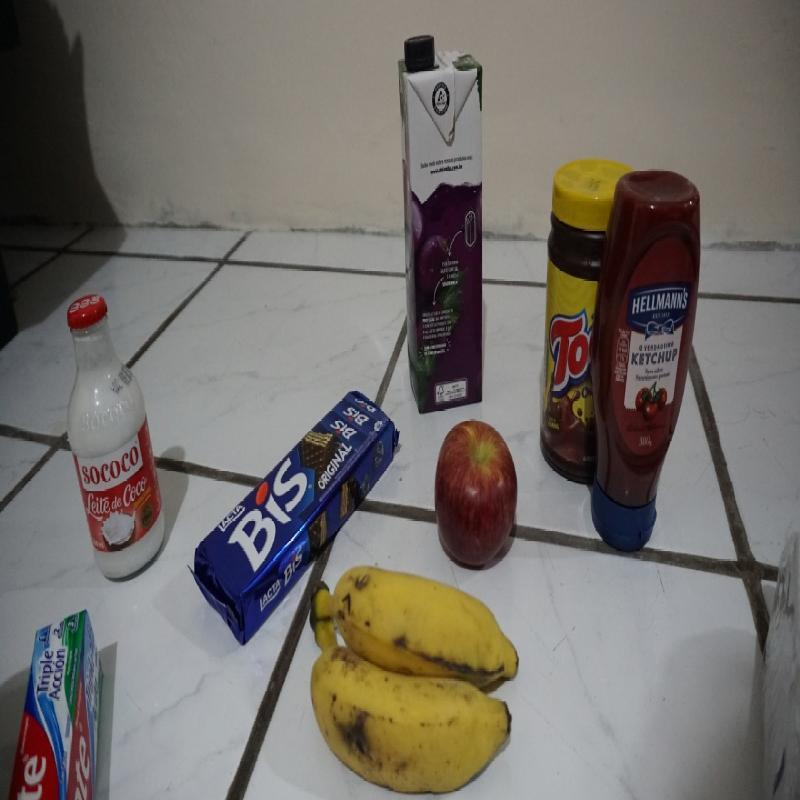Apple: (433, 418, 518, 572)
Banana: (308, 565, 520, 794)
Chocolate Powder: (537, 159, 602, 484)
Coconut Milk: (64, 295, 166, 583)
Ketchup: (590, 167, 704, 556)
Toothpaste: (4, 606, 103, 800)
